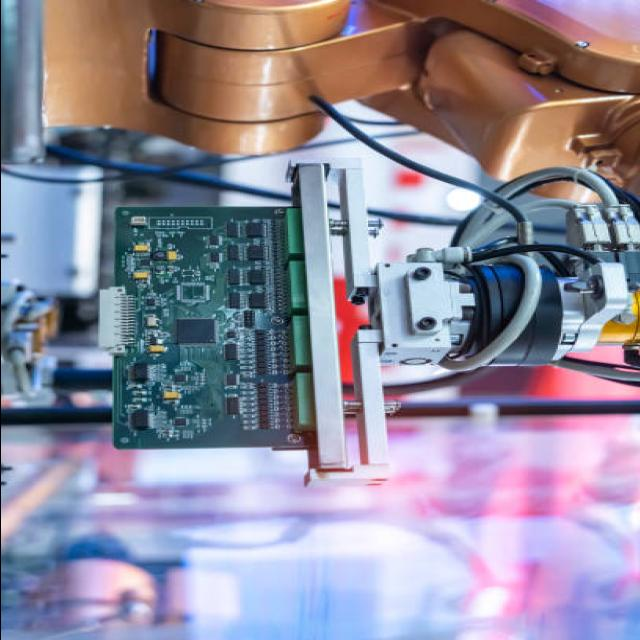Robotic-arm: (30, 1, 640, 194)
